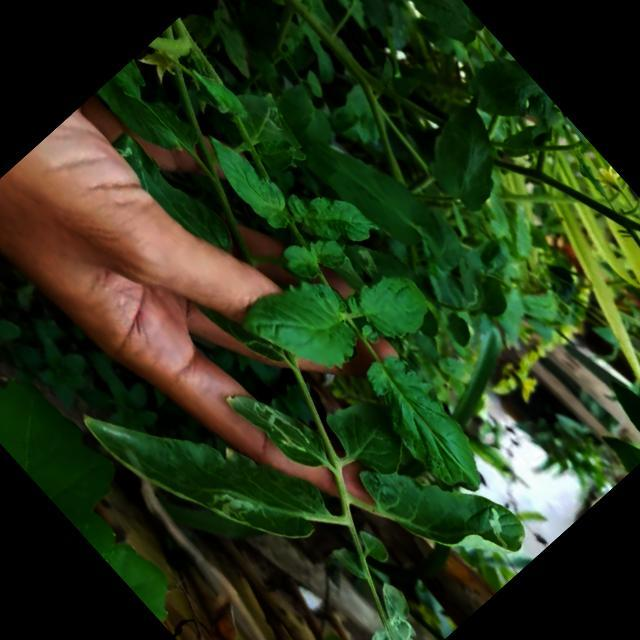Tomato healthy leaf: (0, 346, 215, 623), (347, 342, 505, 508), (288, 103, 444, 267), (235, 255, 377, 398), (406, 94, 530, 220), (192, 120, 306, 241), (349, 258, 441, 352), (349, 0, 488, 57)
Tomato target spot leaf: (77, 330, 338, 600), (354, 412, 536, 600), (105, 120, 244, 268), (222, 367, 335, 485), (224, 76, 322, 178), (316, 576, 445, 640), (342, 222, 419, 302), (439, 260, 496, 316)
